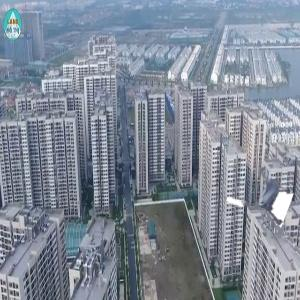drone: (229, 155, 296, 222)
